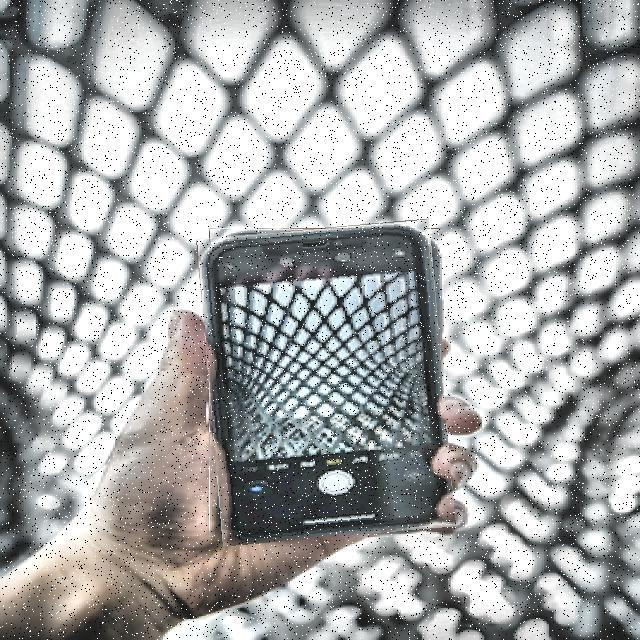Phone: (202, 224, 450, 542)
